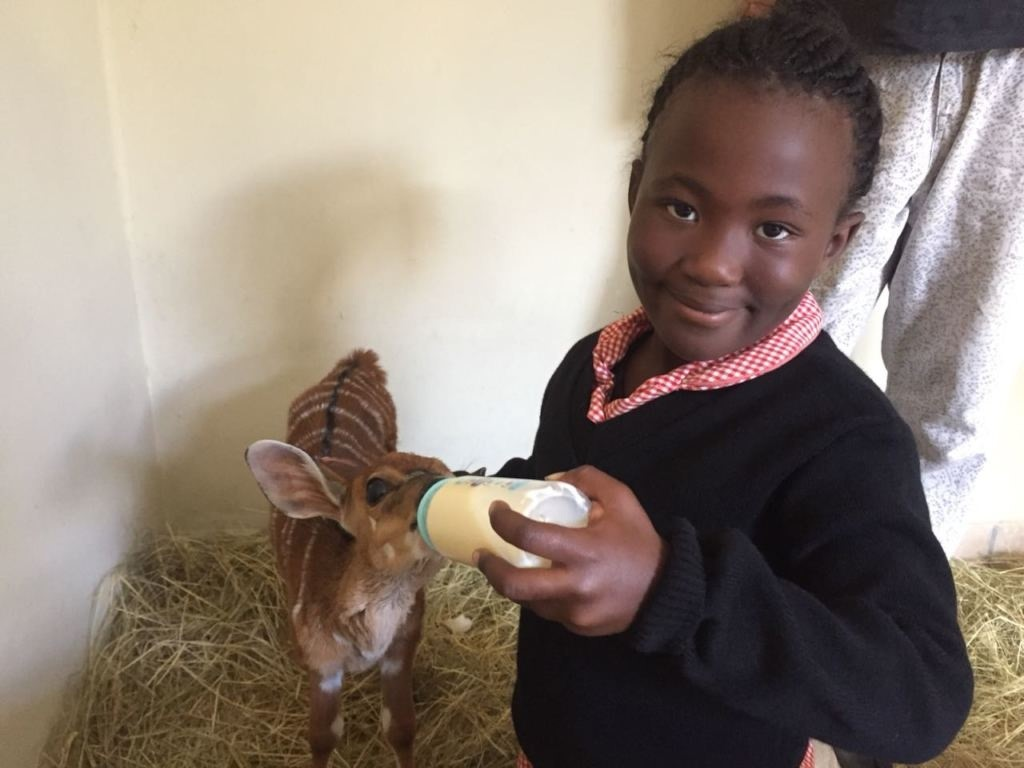face_no_mask: (625, 23, 883, 356)
